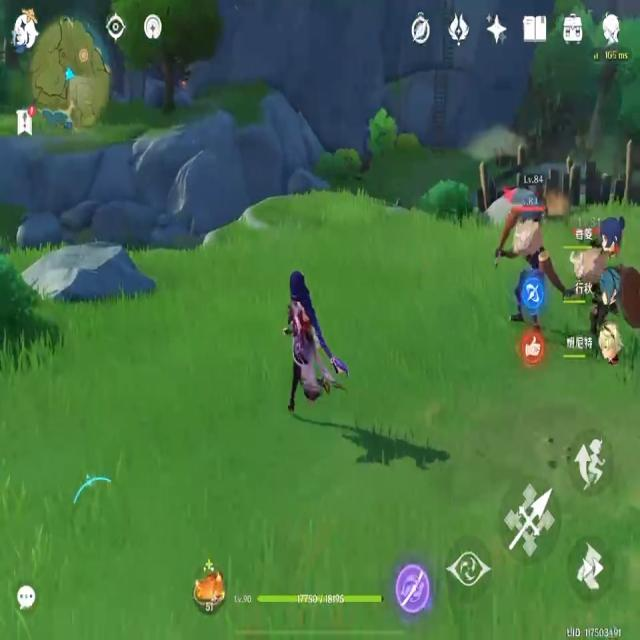genshin-hilichurls: (501, 186, 553, 282)
